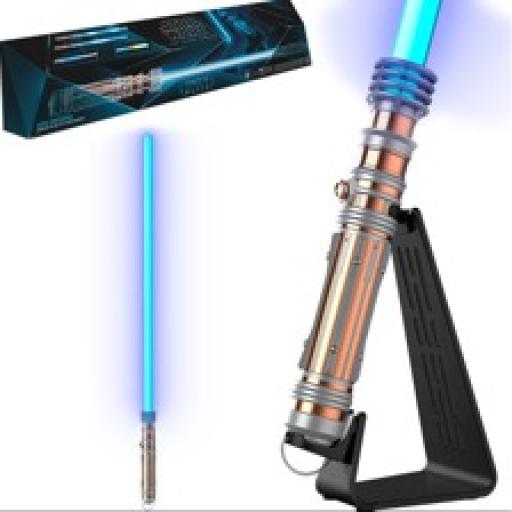lightsaber: (281, 1, 447, 459), (50, 38, 276, 117), (127, 125, 170, 509)
